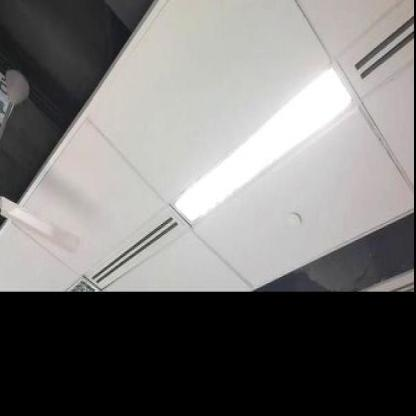light_on: (166, 57, 353, 243)
